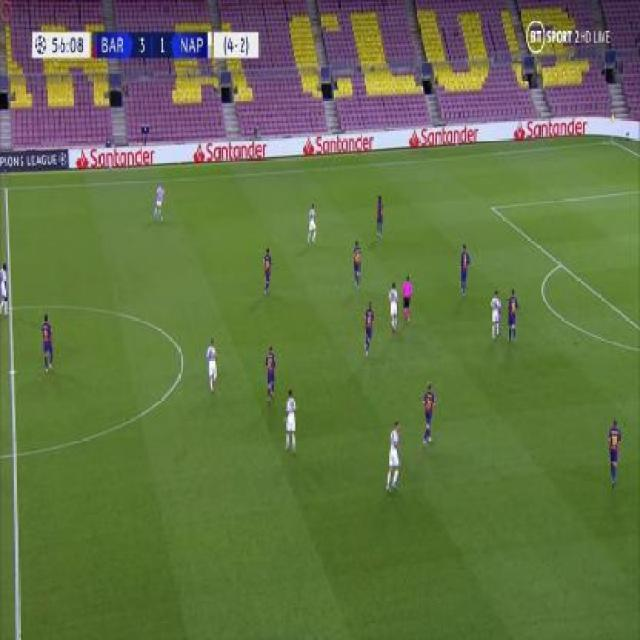player: (385, 415, 402, 494), (420, 378, 437, 449), (606, 416, 623, 487), (282, 387, 298, 455), (39, 311, 55, 374), (505, 285, 521, 344), (263, 342, 277, 407), (204, 334, 218, 396), (362, 298, 376, 357), (457, 242, 471, 298), (386, 279, 400, 333), (260, 245, 274, 298), (489, 287, 502, 341), (401, 271, 414, 324), (350, 238, 363, 291), (306, 199, 319, 247), (152, 179, 166, 221), (374, 192, 385, 240), (1, 262, 10, 318)
